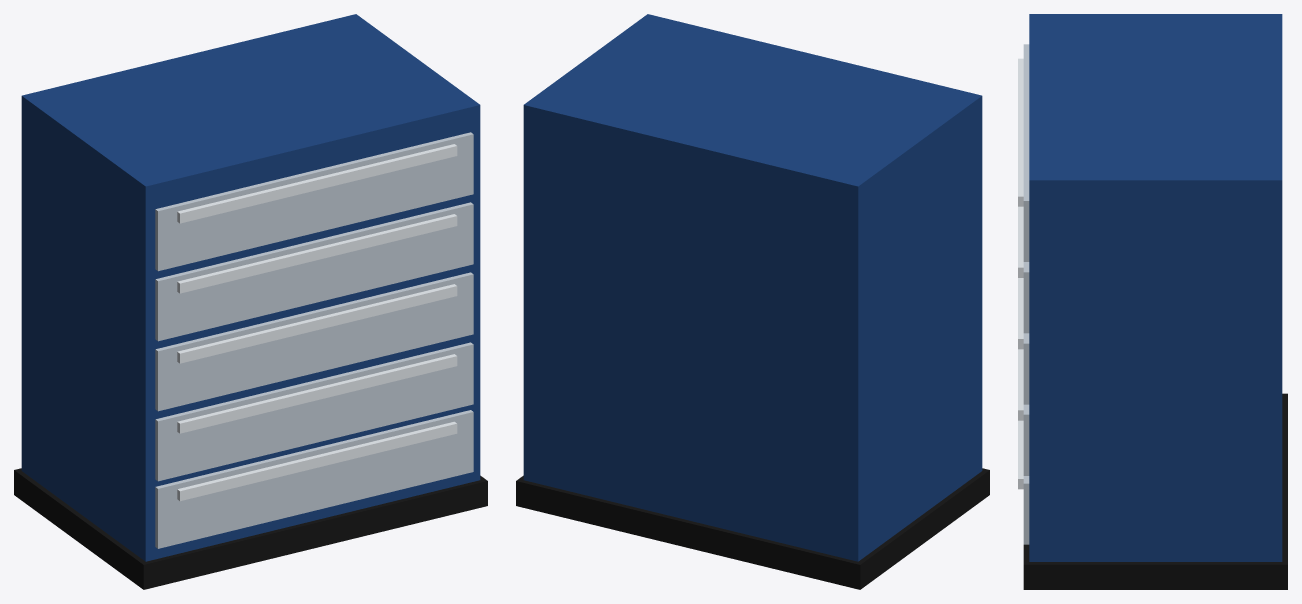
The model's file is bott_cabinet.obj.
3 views of the same model, side by side, from view 1: azimuth 30°, elevation 25°; view 2: azimuth 150°, elevation 25°; view 3: azimuth 270°, elevation 25° (orthographic).
Size of the model in its own units: 1.44 by 1.6 by 0.96.
